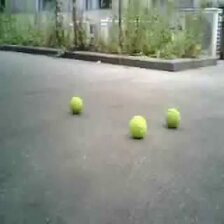tennis: (129, 116, 146, 138), (164, 109, 181, 127), (69, 96, 84, 112)
